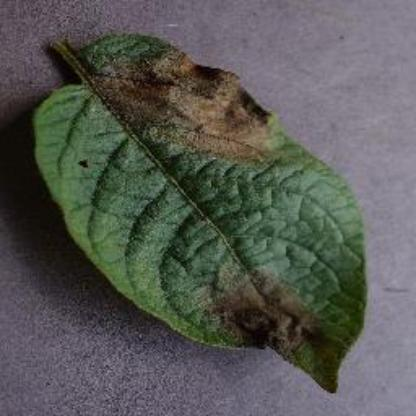Late-Blight: (24, 26, 380, 395)
